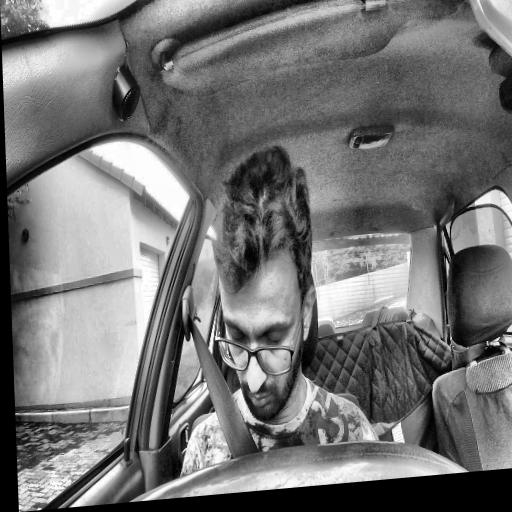drowsy: (207, 144, 321, 428)
